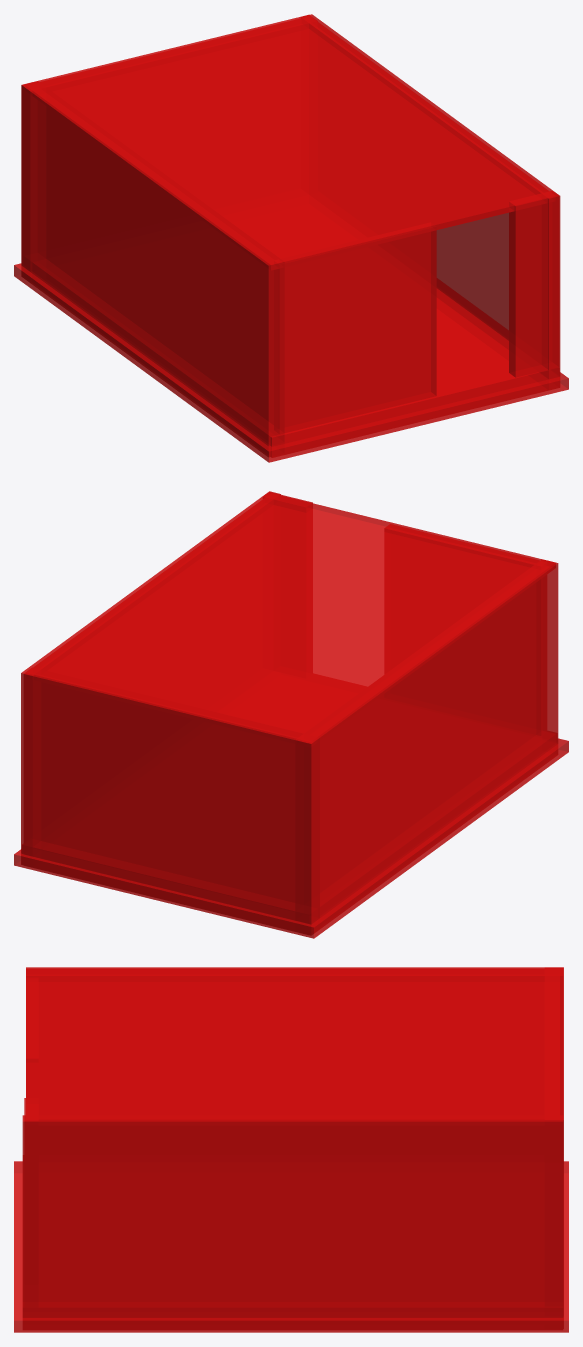
Rendered from SM_Bld_City_Section_Base_01_Collision.fbx.
3 renders of one model, top to bottom at view 1: azimuth 30°, elevation 25°; view 2: azimuth 150°, elevation 25°; view 3: azimuth 270°, elevation 25°, orthographic. The views are drawn at different scales.
Visible parts, largest first — view 1: SM_Bld_City_Section_Base_01_Collision; view 2: SM_Bld_City_Section_Base_01_Collision; view 3: SM_Bld_City_Section_Base_01_Collision.
Boxes of the visible parts, left/top/right/bottom form: SM_Bld_City_Section_Base_01_Collision: left=14, top=14, right=568, bottom=462; SM_Bld_City_Section_Base_01_Collision: left=14, top=491, right=568, bottom=938; SM_Bld_City_Section_Base_01_Collision: left=14, top=967, right=568, bottom=1332.
Bounding box in the file's own units: 526 × 321 × 775.
